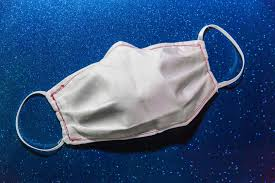FaceMask: (46, 40, 217, 145)
